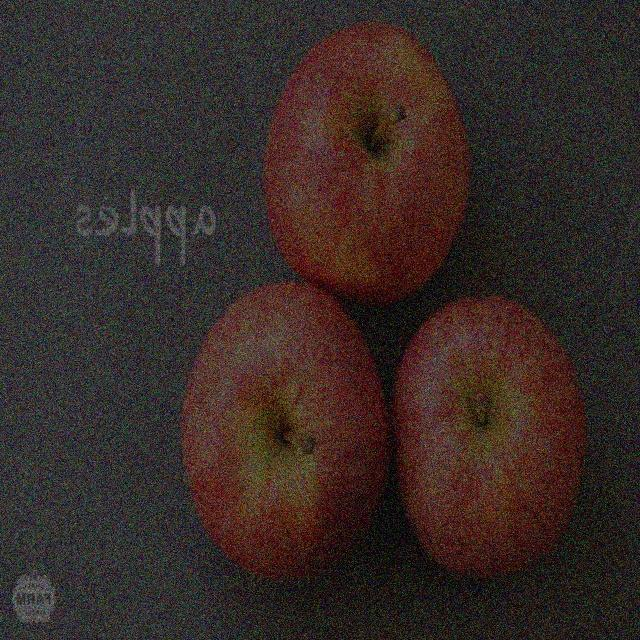red apple: (185, 275, 393, 587), (256, 21, 473, 304), (393, 299, 588, 582)
